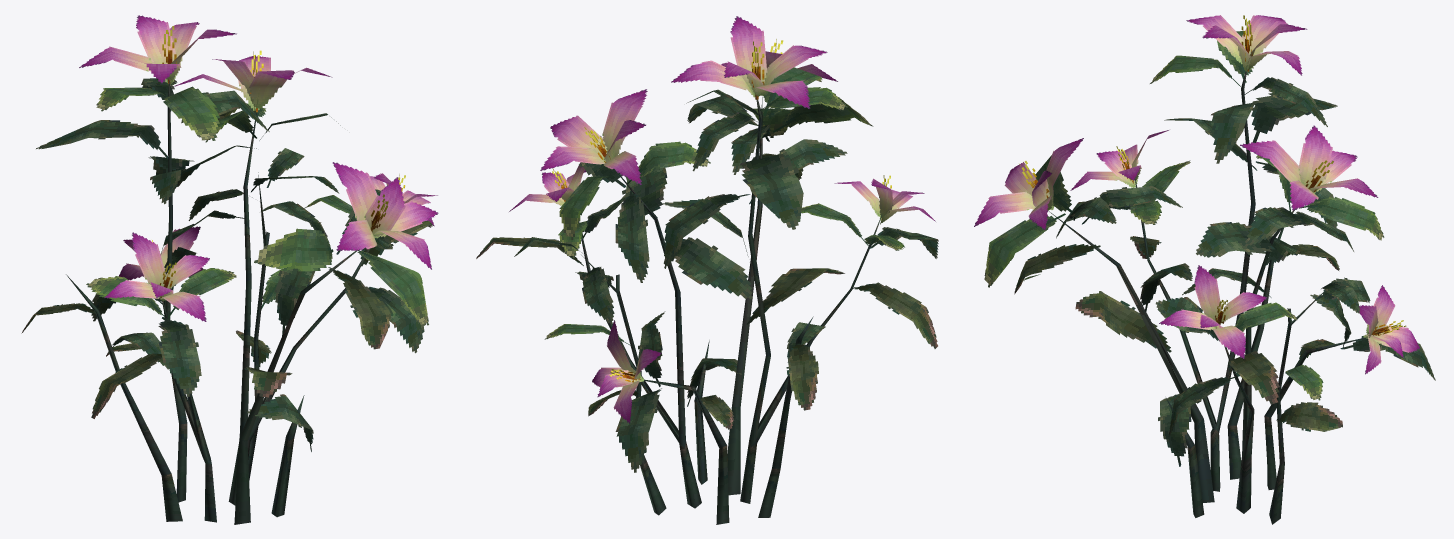
Rendered from wm_灌木大粉花01.fbx.
3 views of the same model, side by side, from view 1: azimuth 30°, elevation 25°; view 2: azimuth 150°, elevation 25°; view 3: azimuth 270°, elevation 25° (orthographic). The views are drawn at different scales.
Parts seen in each view (by area): view 1: wm_灌木大粉花01; view 2: wm_灌木大粉花01; view 3: wm_灌木大粉花01.
Boxes of the visible parts, left/top/right/bottom form: wm_灌木大粉花01: left=21, top=15, right=438, bottom=524; wm_灌木大粉花01: left=476, top=16, right=938, bottom=524; wm_灌木大粉花01: left=974, top=15, right=1435, bottom=524.
Size of the model in its own units: 139 by 158 by 144.
